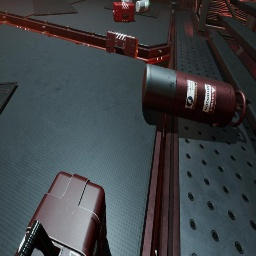0: (135, 0, 151, 12), (120, 0, 132, 3)
FirstAidBox ,: (14, 171, 107, 256), (106, 31, 138, 59), (113, 2, 135, 22)
NitrogenTank ,: (142, 63, 246, 128)
